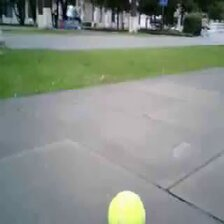tennis: (107, 189, 146, 224)
